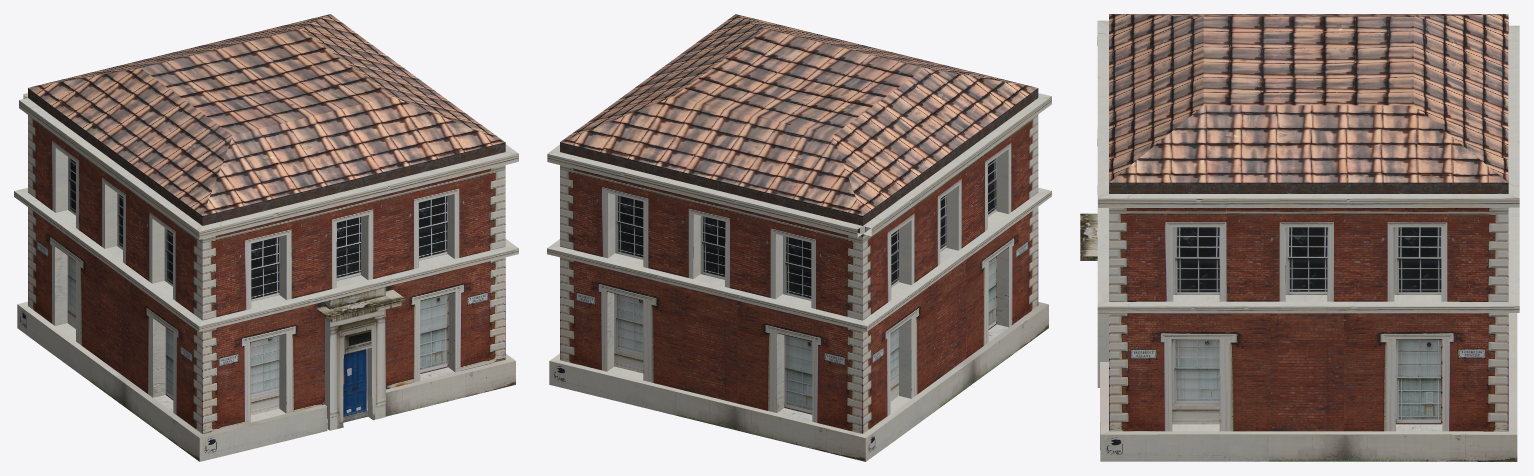
The picture shows the model from 3 angles, left to right: view 1: azimuth 30°, elevation 25°; view 2: azimuth 150°, elevation 25°; view 3: azimuth 270°, elevation 25°; orthographic projection. The views are drawn at different scales.
Parts seen in each view (by area): view 1: Building_Apartment_13; view 2: Building_Apartment_13; view 3: Building_Apartment_13.
Boxes of the visible parts, <box> form: Building_Apartment_13: <box>14,14,518,461</box>; Building_Apartment_13: <box>547,14,1051,461</box>; Building_Apartment_13: <box>1080,14,1519,461</box>.
Size of the model in its own units: 37.5 by 30.68 by 39.1.
Materials: 1 (1 with a texture image).
